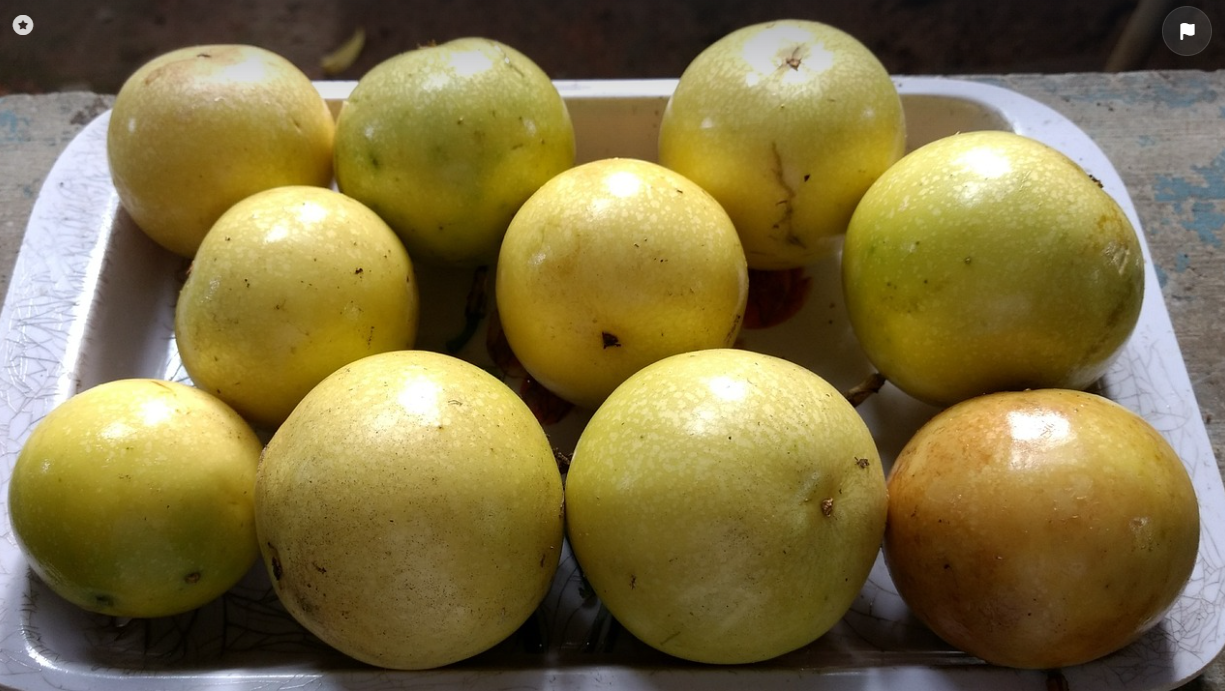maracuya: (562, 341, 894, 679), (252, 347, 568, 668), (873, 381, 1211, 672), (836, 125, 1155, 406), (491, 152, 758, 407), (6, 374, 269, 623), (168, 179, 428, 427), (97, 36, 338, 259)
